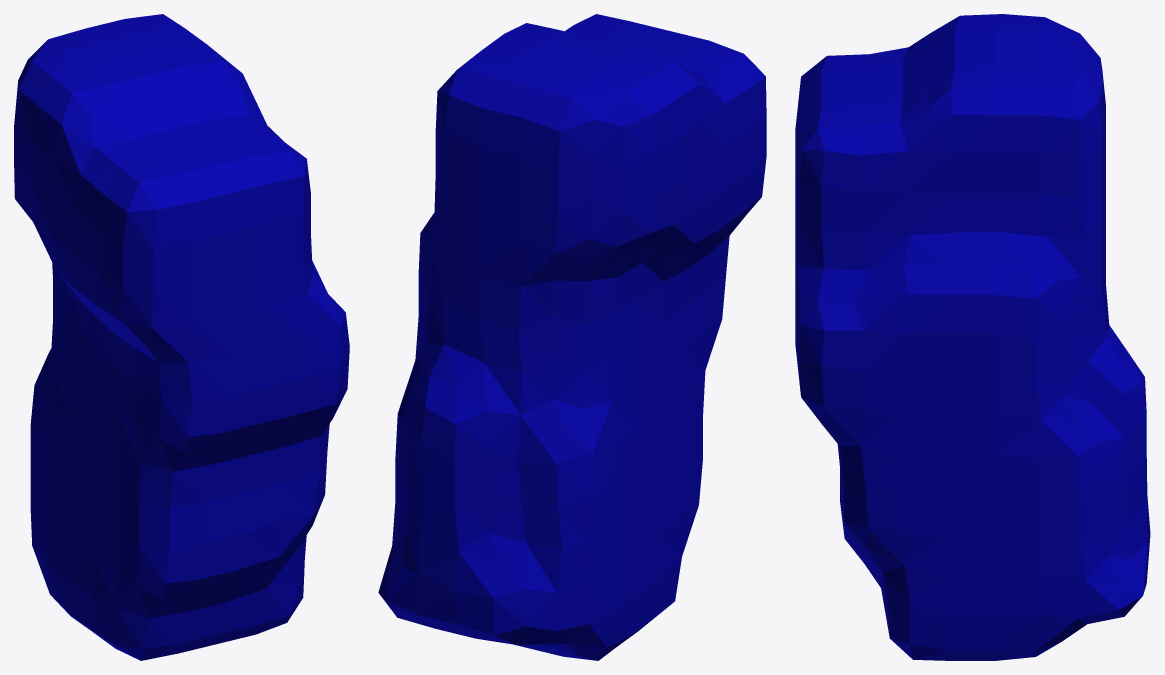
Rendered from aseg_253_CC_Central.glb.
3 views of the same model, side by side, from view 1: azimuth 30°, elevation 25°; view 2: azimuth 150°, elevation 25°; view 3: azimuth 270°, elevation 25° (orthographic). The views are drawn at different scales.
Size of the model in its own units: 6 by 14 by 8.
